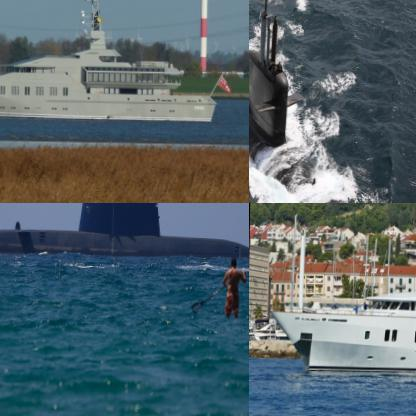Submarine: (249, 0, 406, 202), (0, 203, 248, 259)
Yacht: (0, 0, 232, 122), (268, 203, 415, 377)
